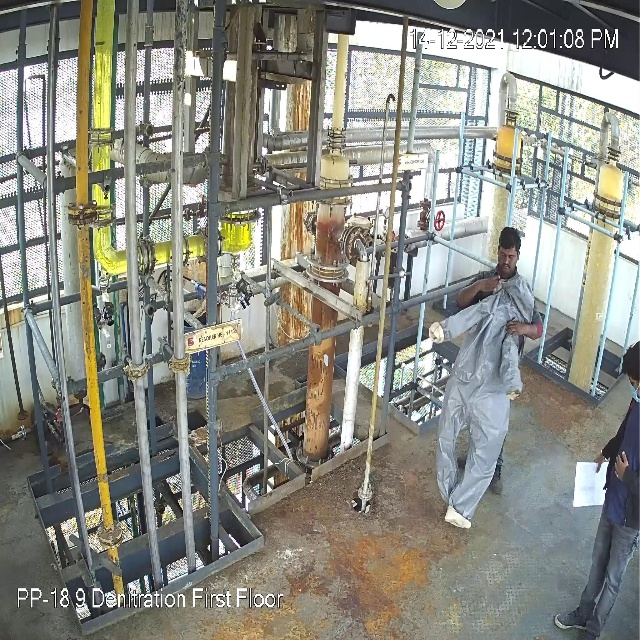Sin_gafas: (497, 248, 516, 257)
Sin_mascara: (498, 258, 517, 272)
